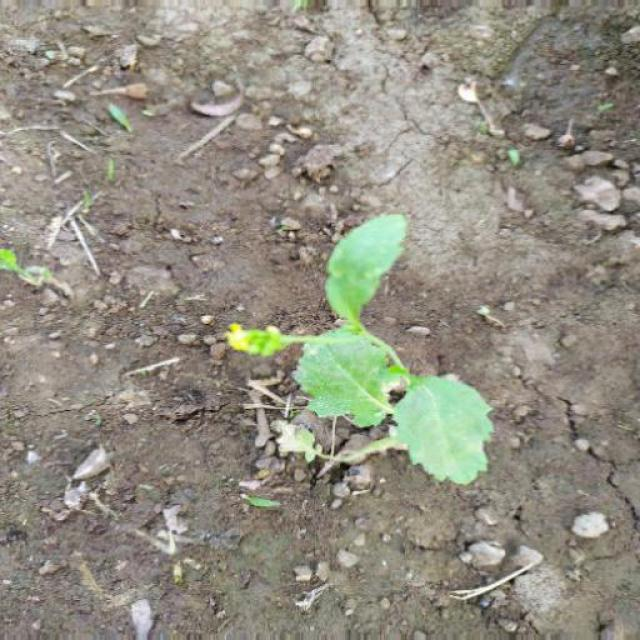weed: (220, 208, 512, 512)
